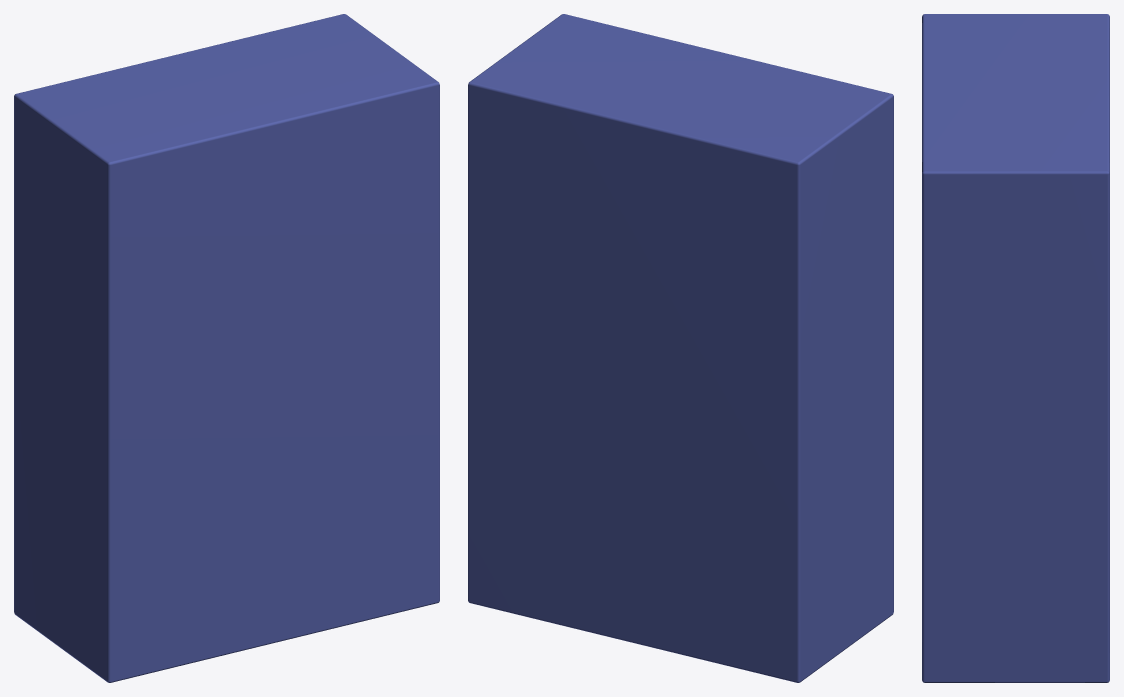
3 renders of one model, left to right at view 1: azimuth 30°, elevation 25°; view 2: azimuth 150°, elevation 25°; view 3: azimuth 270°, elevation 25°, orthographic.
Visible parts, largest first — view 1: SM_Cube_03; view 2: SM_Cube_03; view 3: SM_Cube_03.
Part boxes in pixels (box(x1,y1,x2,y2)): SM_Cube_03: box(14, 14, 439, 682); SM_Cube_03: box(468, 14, 893, 682); SM_Cube_03: box(922, 14, 1109, 682).
Bounding box in the file's own units: 401 × 601 × 200.
